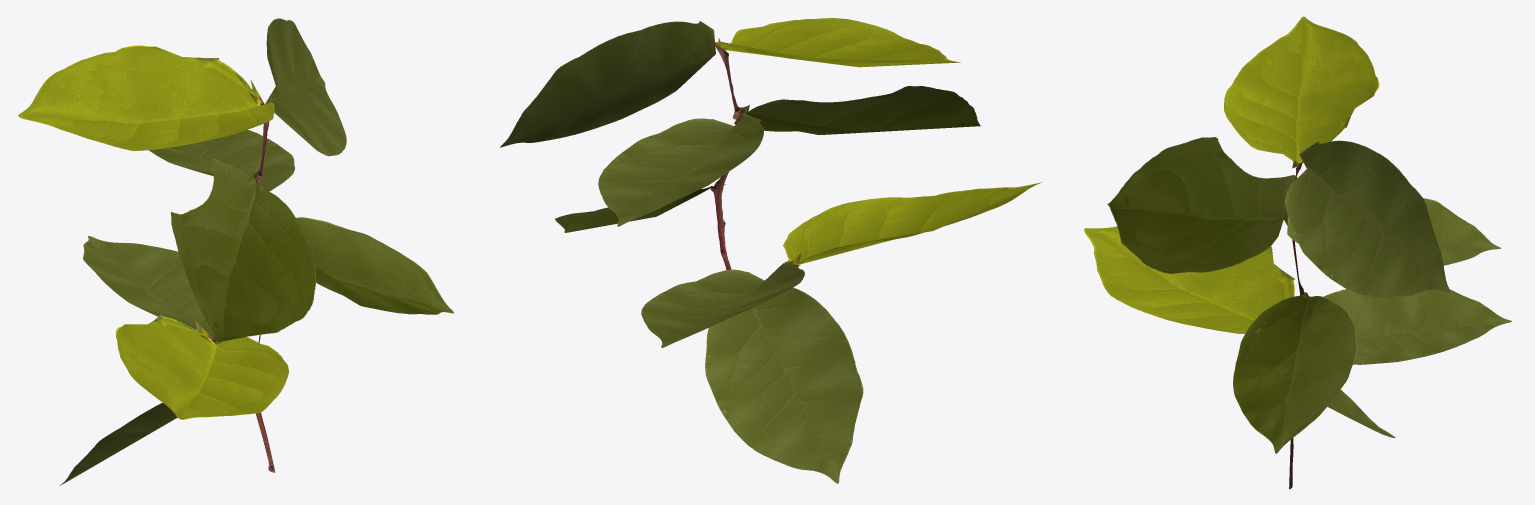
Rendered from PNW Plant_A_leaves_1k.glb.
The picture shows the model from 3 angles, left to right: view 1: azimuth 30°, elevation 25°; view 2: azimuth 150°, elevation 25°; view 3: azimuth 270°, elevation 25°; orthographic projection. The views are drawn at different scales.
Parts seen in each view (by area): view 1: Plant_ A_leaves_1k; view 2: Plant_ A_leaves_1k; view 3: Plant_ A_leaves_1k.
Part boxes in pixels (x1,y1,x2,y2): Plant_ A_leaves_1k: (18, 18, 453, 485); Plant_ A_leaves_1k: (500, 18, 1041, 483); Plant_ A_leaves_1k: (1084, 16, 1511, 489).
Bounding box in the file's own units: 0.3693 × 0.3341 × 0.3491.
1 material, 1 textured.
